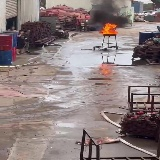fire: (101, 22, 117, 34)
